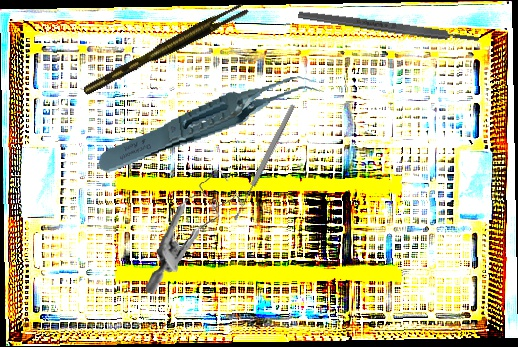Scalpel Handle: (297, 8, 480, 46)
Speculum: (145, 165, 245, 301)
Surgical Spoon: (231, 102, 297, 223)
Tissue Forceps: (90, 73, 331, 175), (78, 1, 252, 96)
